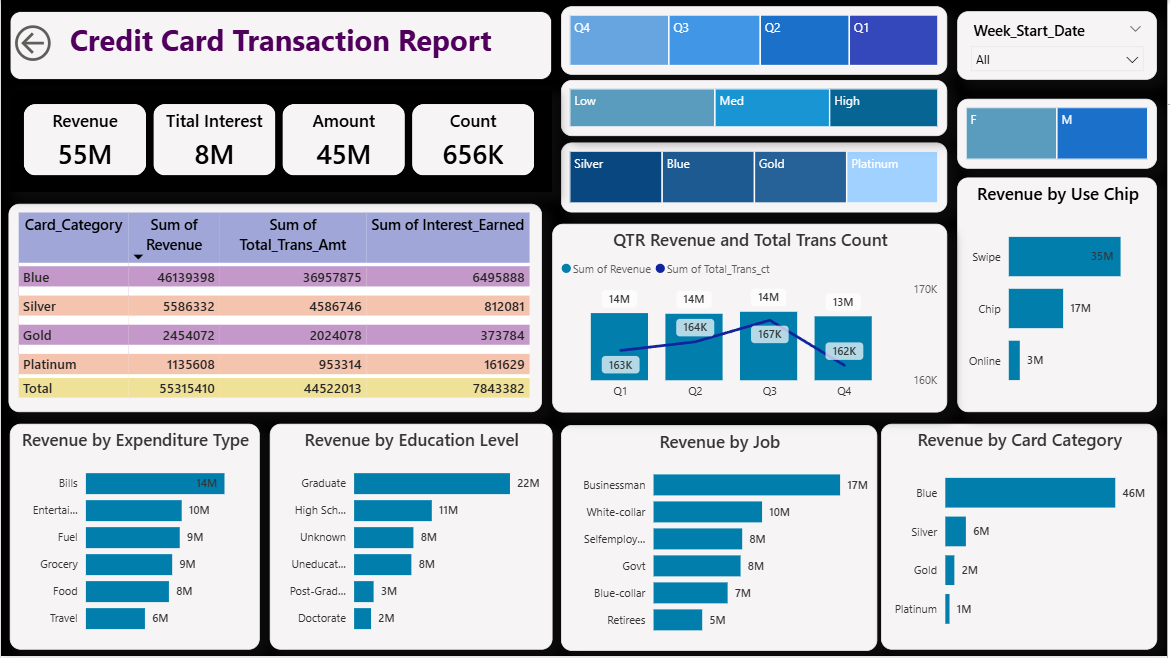

What the dashboard file says about the page in this screenshot:
{"tool":"powerbi","page":{"name":"CC-Transaction Reports","canvas":[1280,720],"ordinal":0},"visuals":[{"type":"textbox","box":[9.6,12.3,595.5,75.5],"z":0},{"type":"tableEx","fields":{"Values":["public cc_detail.Card_Category","public cc_detail.Revenue","Sum(public cc_detail.Total_Trans_Amt)","Sum(public cc_detail.Interest_Earned)"]},"box":[8.2,223.7,585.9,229.2],"z":1000},{"type":"treemap","fields":{"Group":["public cc_detail.Qtr"],"Values":["Avg(public cc_detail.Client_Num)"]},"box":[614.8,6.9,424,75.5],"z":2000},{"type":"treemap","fields":{"Values":["Avg(public cc_detail.Client_Num)"],"Group":["public cc_detail.Card_Category"]},"box":[614.8,156.4,424,76.8],"z":3000},{"type":"treemap","fields":{"Values":["CountNonNull(public cc_detail.Client_Num)"],"Group":["public cust_detail.IncomeGroup"]},"box":[614.8,87.8,424,61.7],"z":4000},{"type":"treemap","title":"Gender","fields":{"Values":["Avg(public cc_detail.Client_Num)"],"Group":["public cust_detail.Gender"]},"box":[1049.7,108.4,219.6,76.8],"z":5000},{"type":"slicer","fields":{"Values":["public cc_detail.Week_Start_Date"]},"box":[1049.7,12.3,219.6,75.5],"z":6000},{"type":"barChart","title":"Revenue by Expenditure Type","fields":{"Category":["public cc_detail.Exp Type"],"Y":["Sum(public cc_detail.Revenue)"]},"box":[9.6,465.2,274.4,248.4],"z":7000},{"type":"barChart","title":"Revenue by Education Level","fields":{"Y":["Sum(public cc_detail.Revenue)"],"Category":["public cust_detail.Education_Level"]},"box":[295,465.2,310.1,248.4],"z":8000},{"type":"barChart","title":"Revenue by Job","fields":{"Y":["Sum(public cc_detail.Revenue)"],"Category":["public cust_detail.Customer_Job"]},"box":[614.8,466.6,347.2,248.4],"z":9000},{"type":"barChart","title":"Revenue by Card Category","fields":{"Y":["Sum(public cc_detail.Revenue)"],"Category":["public cc_detail.Card_Category"]},"box":[966,465.2,303.3,248.4],"z":10000},{"type":"barChart","title":"Revenue by Use Chip","fields":{"Y":["Sum(public cc_detail.Revenue)"],"Category":["public cc_detail.Use Chip"]},"box":[1049.7,194.9,219.6,258],"z":11000},{"type":"lineStackedColumnComboChart","title":"QTR Revenue and Total Trans Count","fields":{"Category":["public cc_detail.Qtr"],"Y":["Sum(public cc_detail.Revenue)"],"Y2":["Sum(public cc_detail.Total_Trans_Vol)"]},"box":[605.1,245.6,433.6,207.2],"z":12000},{"type":"cardVisual","fields":{"Data":["Sum(public cc_detail.Revenue)","Sum(public cc_detail.Interest_Earned)","Sum(public cc_detail.Total_Trans_Amt)","Sum(public cc_detail.Total_Trans_Vol)"]},"box":[8.2,97.4,596.9,112.5],"z":13000},{"type":"actionButton","box":[9.6,12.3,50.8,70],"z":13001}]}

Visuals, with their boxes in screenshot pixels (x1, y1, x2, y2), scaled from the page's 1280x720 canvas onto the 1170x658 screenshot:
textbox: left=9, top=11, right=553, bottom=80
tableEx - public cc_detail.Card_Category x public cc_detail.Revenue: left=7, top=204, right=543, bottom=414
treemap - public cc_detail.Qtr x Avg(public cc_detail.Client_Num): left=562, top=6, right=950, bottom=75
treemap - Avg(public cc_detail.Client_Num) x public cc_detail.Card_Category: left=562, top=143, right=950, bottom=213
treemap - CountNonNull(public cc_detail.Client_Num) x public cust_detail.IncomeGroup: left=562, top=80, right=950, bottom=137
"Gender" treemap: left=959, top=99, right=1160, bottom=169
slicer - public cc_detail.Week_Start_Date: left=959, top=11, right=1160, bottom=80
"Revenue by Expenditure Type" barChart: left=9, top=425, right=260, bottom=652
"Revenue by Education Level" barChart: left=270, top=425, right=553, bottom=652
"Revenue by Job" barChart: left=562, top=426, right=879, bottom=653
"Revenue by Card Category" barChart: left=883, top=425, right=1160, bottom=652
"Revenue by Use Chip" barChart: left=959, top=178, right=1160, bottom=414
"QTR Revenue and Total Trans Count" lineStackedColumnComboChart: left=553, top=224, right=949, bottom=414
cardVisual - Sum(public cc_detail.Revenue) x Sum(public cc_detail.Interest_Earned): left=7, top=89, right=553, bottom=192
actionButton: left=9, top=11, right=55, bottom=75
